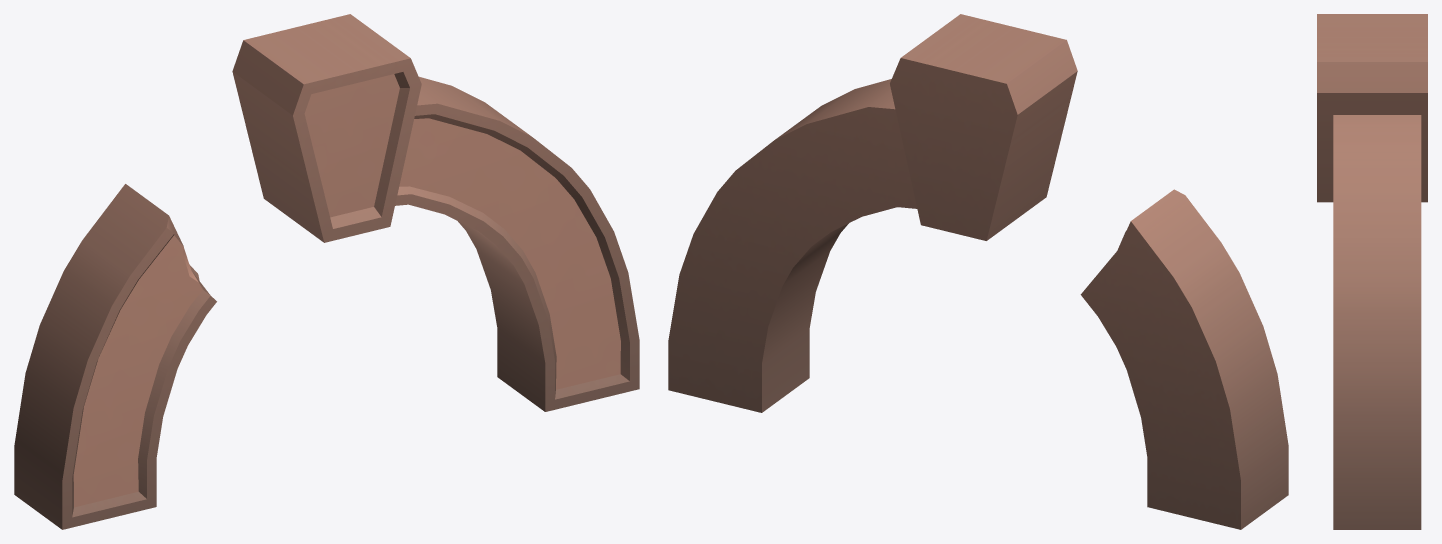
Rendered from obj_Ruins.003.fbx.
The picture shows the model from 3 angles, left to right: view 1: azimuth 30°, elevation 25°; view 2: azimuth 150°, elevation 25°; view 3: azimuth 270°, elevation 25°; orthographic projection. The views are drawn at different scales.
Visible parts, largest first — view 1: Cube.087; view 2: Cube.087; view 3: Cube.087.
Part boxes in pixels (<box>): Cube.087: <box>14,14,639,529</box>; Cube.087: <box>668,14,1288,529</box>; Cube.087: <box>1317,14,1427,529</box>.
Bounding box in the file's own units: 324 × 212 × 58.72.
